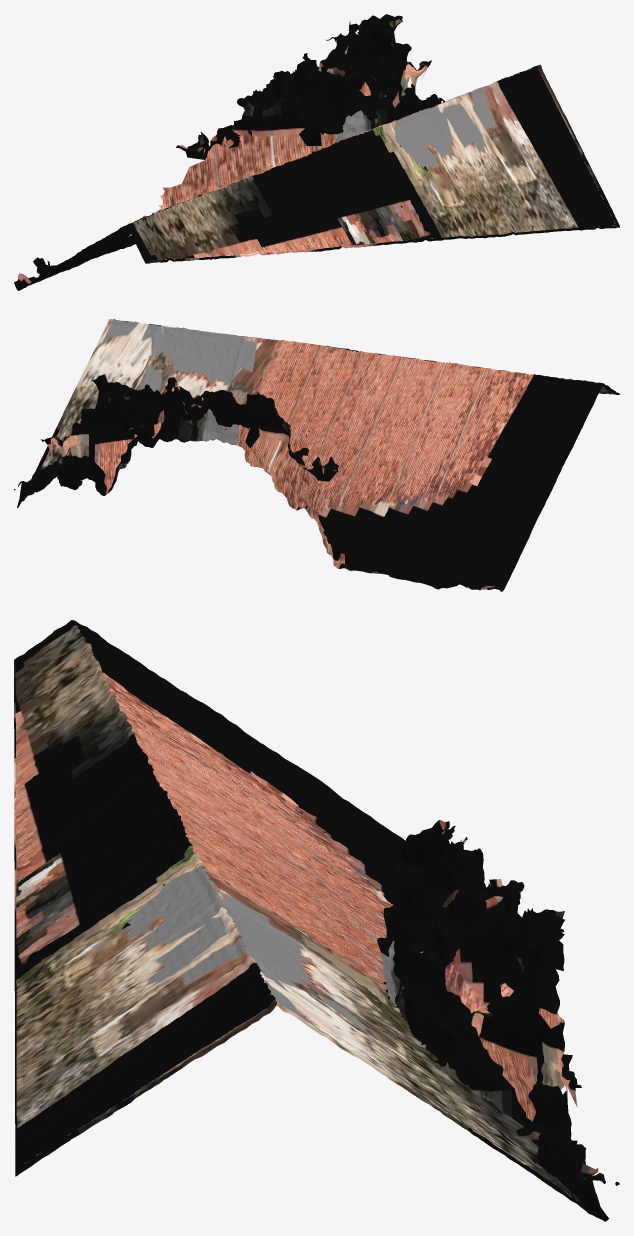
3 views of the same model, one above another, from view 1: azimuth 30°, elevation 25°; view 2: azimuth 150°, elevation 25°; view 3: azimuth 270°, elevation 25° (orthographic). The views are drawn at different scales.
Parts seen in each view (by area): view 1: node_36; view 2: node_36; view 3: node_36.
Boxes of the visible parts, x1,y1,x2,y2 form: node_36: [14, 14, 619, 290]; node_36: [14, 319, 619, 591]; node_36: [14, 620, 619, 1221].
Bounding box in the file's own units: 23.2 × 7.37 × 15.53.
Materials: 1 (1 with a texture image).
